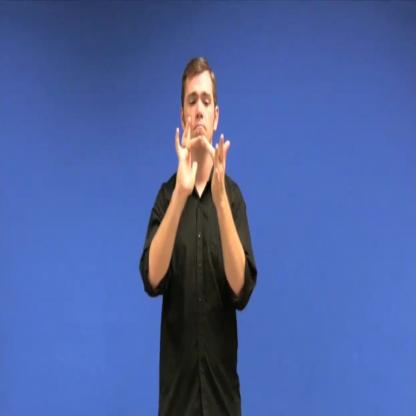Internet: (160, 84, 238, 208)
